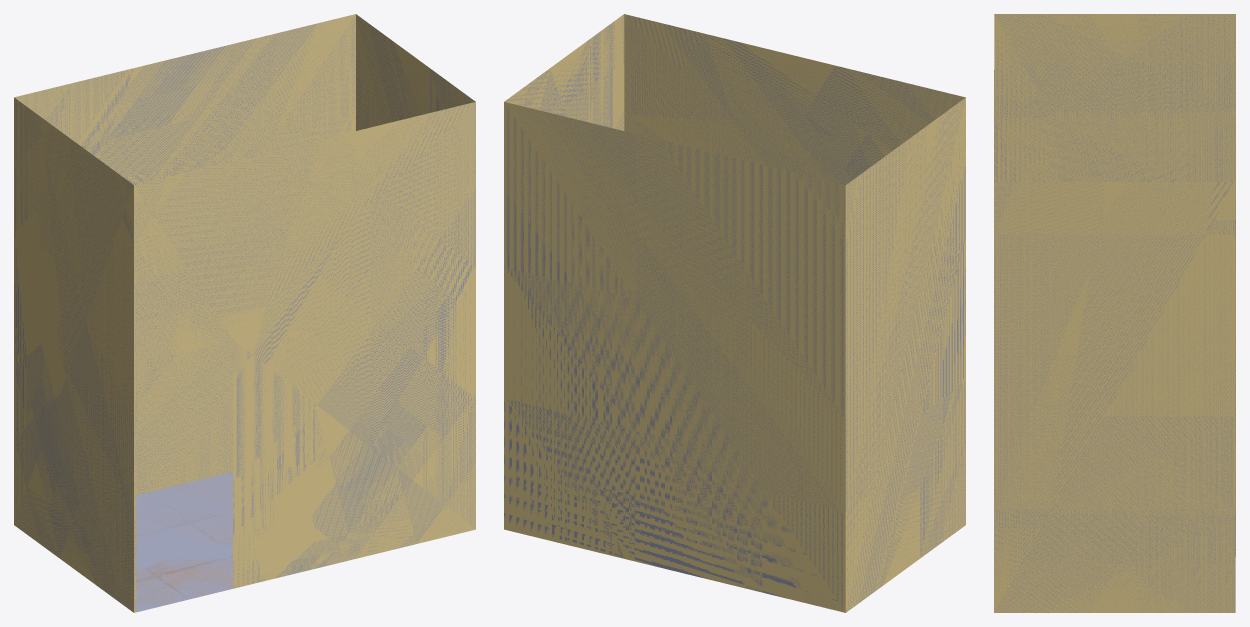
The model's file is CUA032.obj.
3 renders of one model, left to right at view 1: azimuth 30°, elevation 25°; view 2: azimuth 150°, elevation 25°; view 3: azimuth 270°, elevation 25°, orthographic.
Visible parts, largest first — view 1: Mesh1 CUA032 Model; view 2: Mesh1 CUA032 Model; view 3: Mesh1 CUA032 Model.
Part boxes in pixels (x1,y1,x2,y2): Mesh1 CUA032 Model: [14, 14, 475, 612]; Mesh1 CUA032 Model: [504, 14, 965, 612]; Mesh1 CUA032 Model: [994, 14, 1235, 612].
Bounding box in the file's own units: 3.01 × 3.6 × 1.83.
3 materials, 1 textured.
